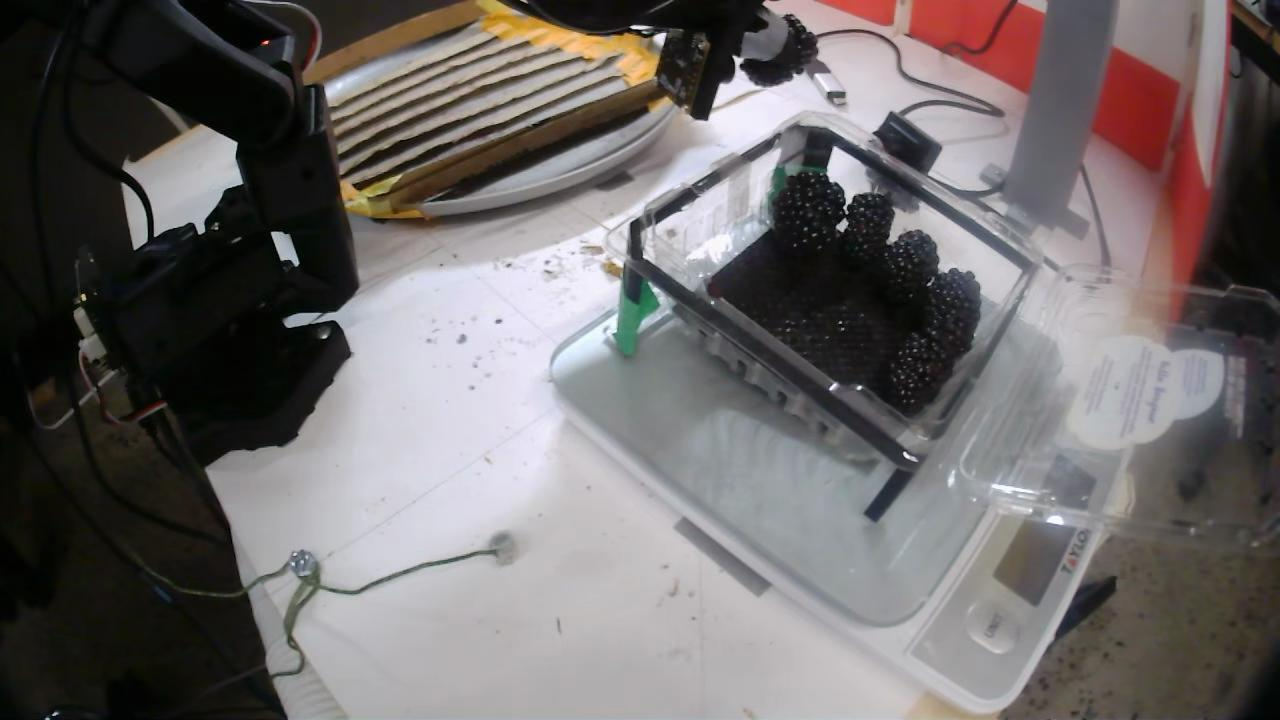berry: (772, 172, 844, 255), (924, 268, 980, 370), (740, 14, 817, 85), (882, 334, 945, 413), (837, 193, 894, 271), (884, 230, 938, 305)
